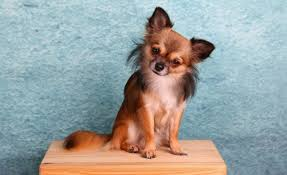chihuahua: (61, 4, 216, 152)
